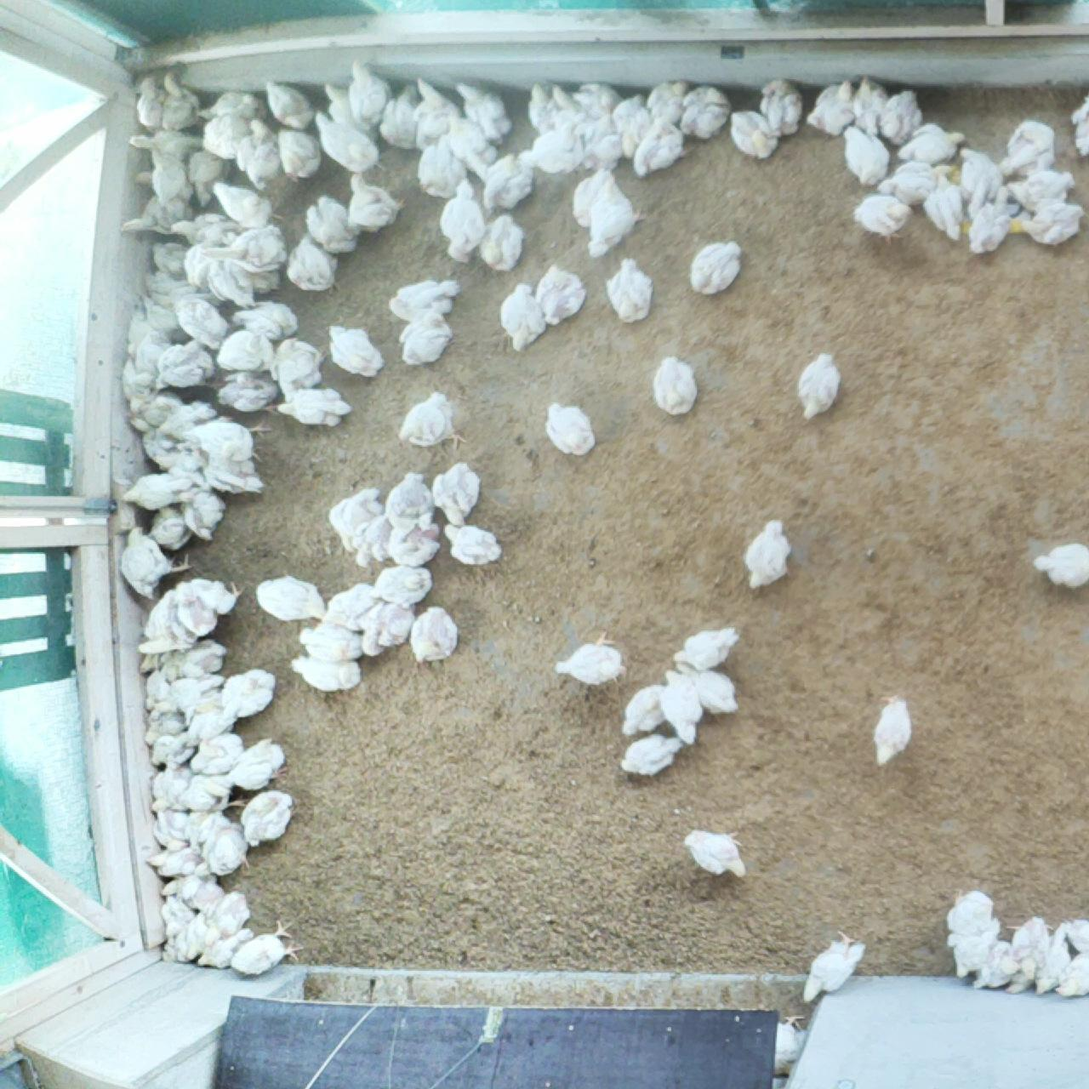chicken: (116, 523, 195, 603), (798, 927, 868, 1008), (586, 173, 650, 259), (228, 911, 307, 977), (195, 223, 292, 276), (311, 110, 383, 177), (442, 99, 500, 180), (397, 389, 469, 454), (554, 629, 631, 688), (174, 574, 244, 638), (436, 179, 488, 265), (327, 483, 387, 557), (452, 78, 515, 147), (176, 415, 270, 461), (865, 687, 917, 770), (136, 585, 194, 659), (343, 168, 409, 233), (302, 190, 363, 260), (631, 117, 697, 181), (252, 569, 330, 623), (680, 823, 751, 882), (741, 515, 795, 592), (602, 254, 657, 328), (222, 735, 292, 793), (322, 320, 387, 382), (272, 384, 357, 431), (964, 183, 1015, 261), (514, 123, 585, 179), (496, 279, 548, 355), (876, 157, 952, 209), (267, 333, 324, 402), (847, 191, 917, 247), (938, 884, 998, 949), (284, 228, 342, 295), (480, 146, 537, 214), (411, 74, 461, 151), (998, 118, 1059, 181), (218, 666, 278, 730), (658, 667, 704, 750), (431, 458, 485, 528), (396, 307, 455, 371), (358, 595, 415, 661), (533, 261, 589, 328), (210, 176, 282, 228), (476, 207, 529, 277), (893, 121, 967, 171), (794, 349, 844, 423), (416, 132, 470, 200), (670, 624, 743, 674), (676, 663, 741, 719), (385, 277, 464, 323), (117, 190, 191, 239), (1006, 911, 1057, 982), (542, 399, 601, 460), (1027, 536, 1089, 594), (804, 76, 861, 139), (1019, 199, 1088, 251), (950, 917, 1005, 982), (346, 57, 395, 129), (375, 80, 424, 152), (199, 887, 255, 949), (838, 123, 893, 186), (617, 731, 686, 781), (285, 651, 365, 694), (687, 235, 743, 296), (235, 118, 282, 190), (240, 788, 296, 848), (367, 562, 434, 612), (408, 603, 462, 665), (651, 353, 702, 418), (154, 339, 215, 393), (176, 769, 249, 814), (924, 168, 967, 244), (191, 823, 249, 879), (230, 299, 302, 344), (272, 122, 326, 182), (569, 166, 618, 232), (259, 76, 316, 132), (326, 579, 385, 633), (1032, 921, 1073, 998), (297, 619, 367, 664), (197, 110, 258, 161), (1008, 170, 1078, 214), (677, 84, 732, 140), (383, 469, 437, 526), (771, 1009, 814, 1080), (195, 923, 256, 973), (193, 88, 269, 128), (877, 87, 926, 149), (198, 454, 267, 498), (171, 295, 230, 346), (154, 69, 201, 133), (441, 520, 505, 567), (322, 81, 374, 138), (184, 695, 241, 747), (204, 258, 259, 311), (728, 107, 780, 162), (955, 144, 1005, 201), (620, 684, 670, 741), (214, 371, 278, 415), (166, 211, 246, 246), (761, 74, 804, 139), (610, 93, 653, 158), (190, 730, 247, 778), (119, 469, 183, 511), (125, 128, 204, 162), (143, 811, 188, 869), (177, 490, 225, 544), (215, 328, 275, 371), (169, 807, 233, 847), (388, 521, 442, 568), (159, 397, 216, 441), (186, 147, 227, 208), (580, 112, 621, 172), (167, 671, 224, 714), (851, 73, 891, 134), (130, 69, 167, 134), (153, 447, 210, 489), (145, 504, 195, 551), (157, 867, 220, 904), (644, 75, 689, 126), (150, 153, 190, 209), (971, 935, 1010, 992), (151, 763, 193, 814), (129, 414, 174, 461), (572, 81, 622, 123), (124, 307, 165, 358), (147, 241, 199, 281), (147, 728, 195, 771), (548, 86, 590, 135), (179, 640, 231, 679), (134, 168, 193, 202), (143, 705, 187, 750), (174, 909, 210, 963), (119, 361, 157, 411), (1051, 952, 1089, 1001), (181, 237, 214, 290), (131, 328, 169, 373), (141, 661, 174, 712), (143, 294, 181, 338), (526, 80, 557, 133), (145, 270, 194, 302), (1066, 91, 1089, 158), (159, 894, 194, 937), (139, 390, 182, 425), (136, 645, 170, 678), (1064, 914, 1089, 954), (250, 269, 285, 297), (1004, 968, 1034, 999)
